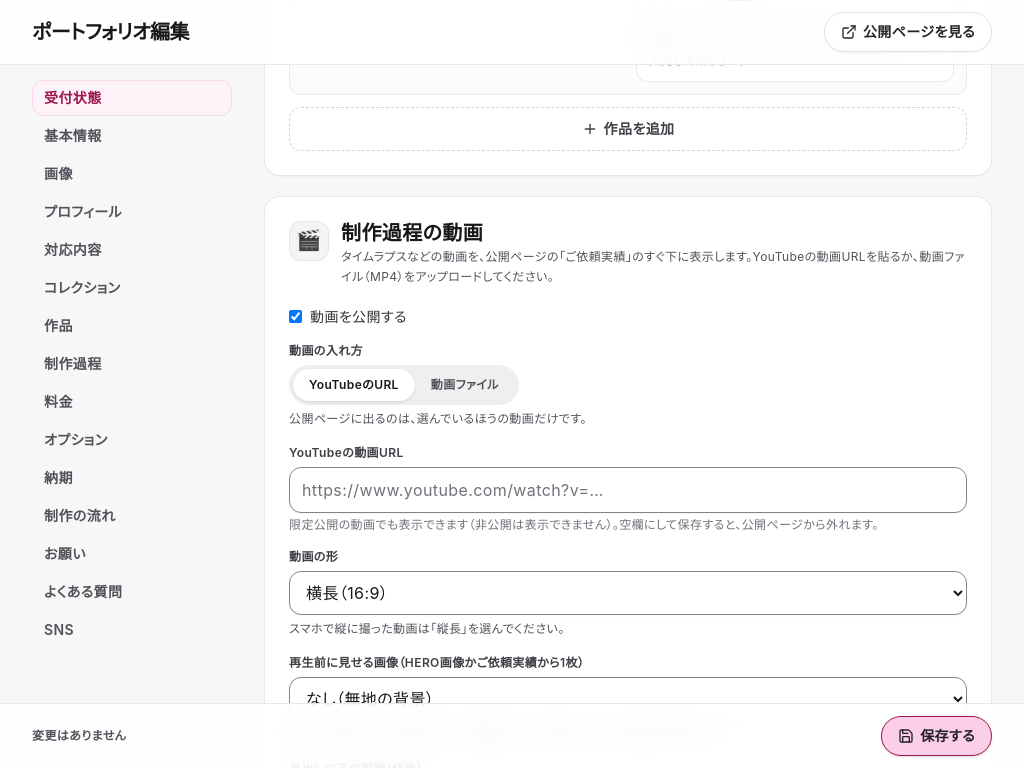
PortfolioEditor process video section › offers the video file upload, but says it is unavailable in the demo
(page scrolled)
Click the button "動画ファイル" at [465, 384], box [415,368,515,400]
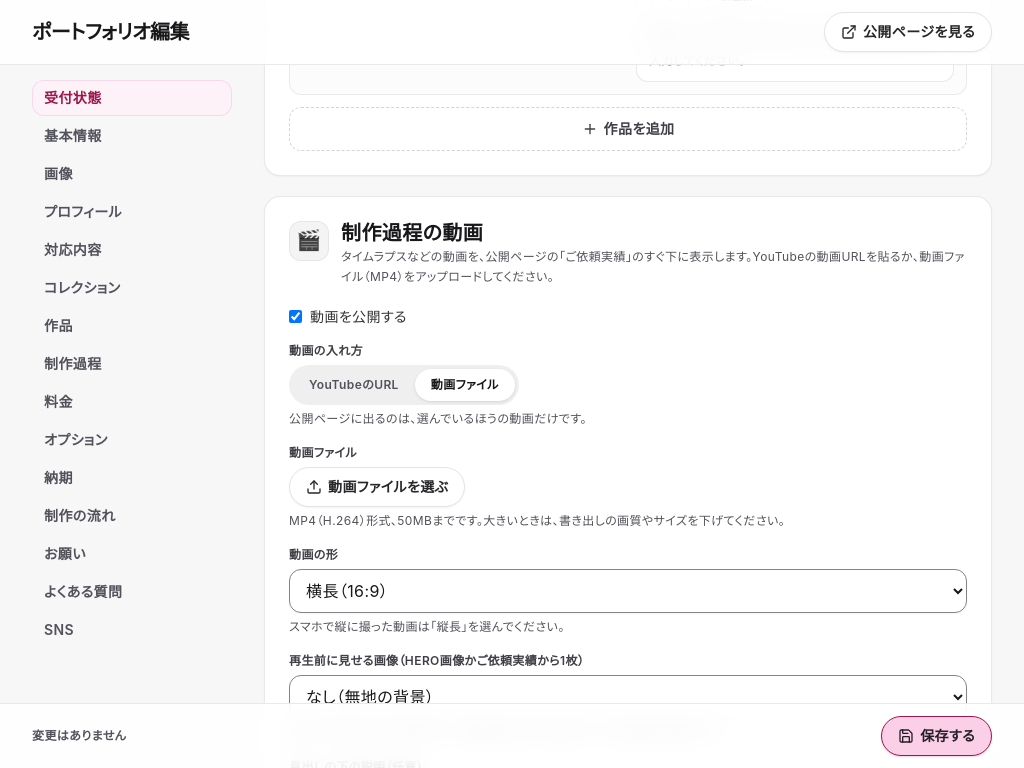
Click the button "動画ファイルを選ぶ" at [377, 486], box [289,466,465,506]
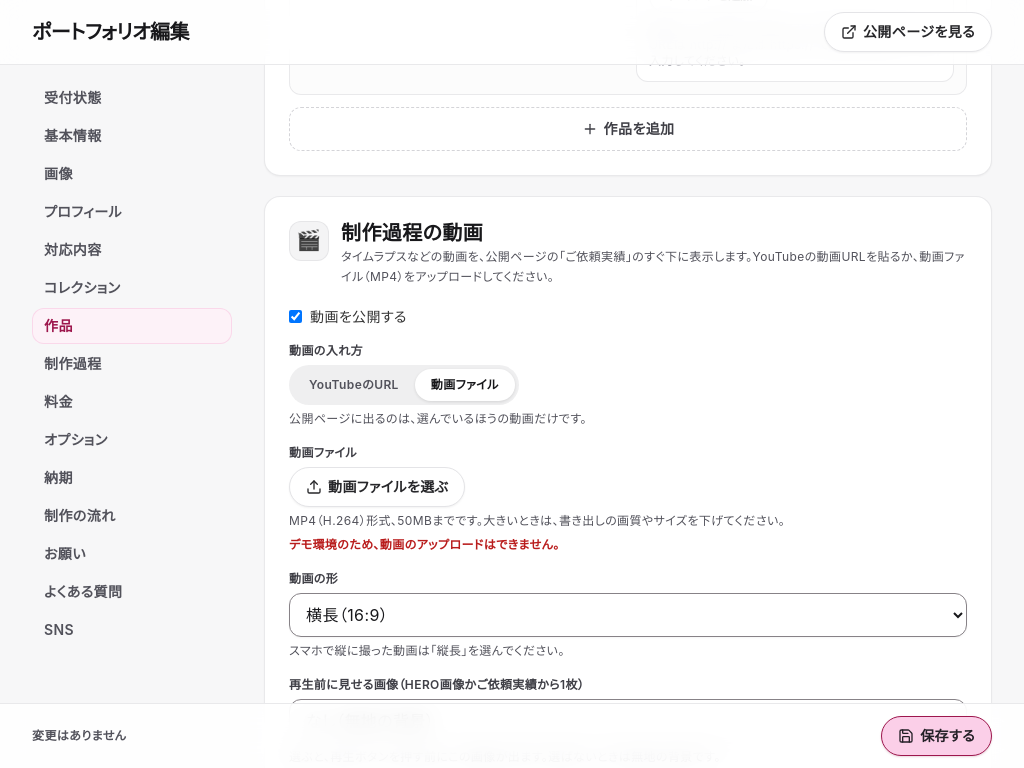
Now the message reads "デモ環境のため、動画のアップロードはできません。", box [289,536,560,552]
